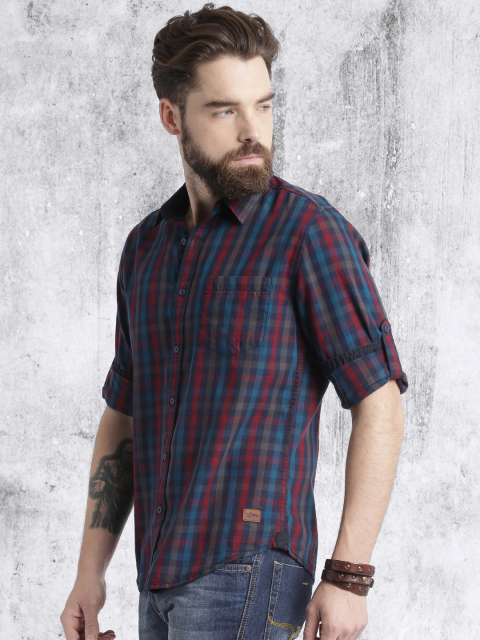jeans: (130, 562, 314, 640)
shirt: (98, 175, 405, 556)
